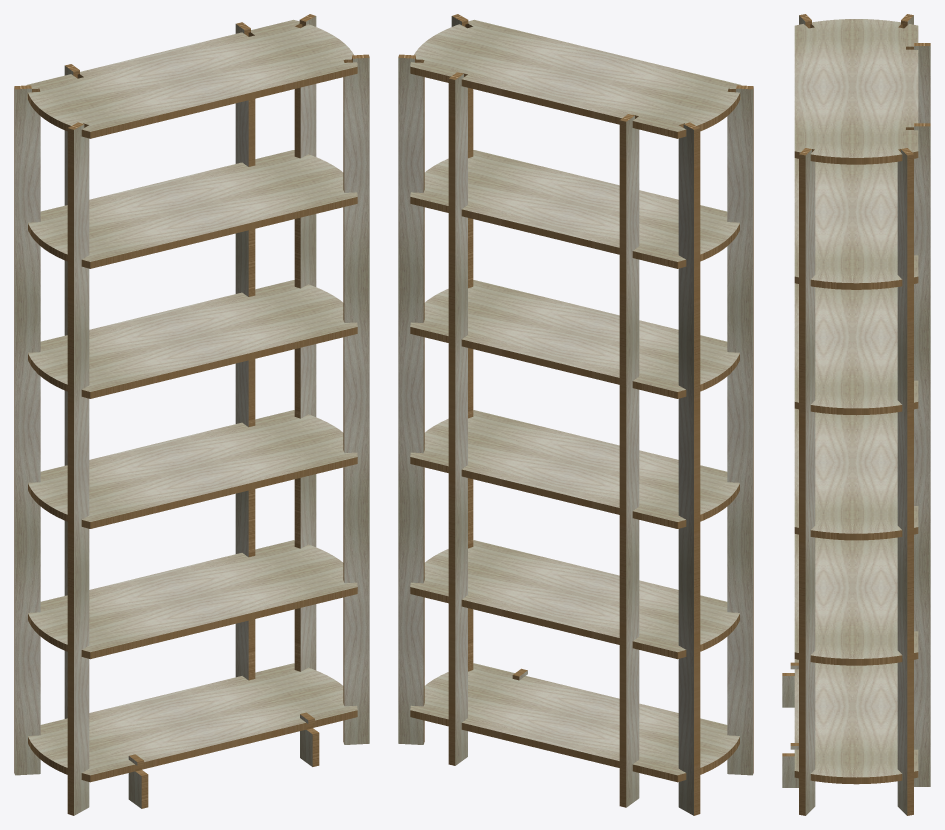
The model's file is NODO_BIBLIOTECA_KIRI_V1.glb.
3 renders of one model, left to right at view 1: azimuth 30°, elevation 25°; view 2: azimuth 150°, elevation 25°; view 3: azimuth 270°, elevation 25°, orthographic. The views are drawn at different scales.
Visible parts, largest first — view 1: Estante_6, Estante_2, Estante_5, Estante_3, Estante_4, Estante_1, Lateral_derecho_frente, Lateral_izquierdo_atras, Lateral_izquierdo_frente, Lateral_derecho_atras, Montante_trasero_2, Montante_trasero_1 (+2 smaller); view 2: Estante_6, Lateral_derecho_atras, Lateral_izquierdo_frente, Estante_2, Estante_3, Estante_5, Estante_4, Estante_1, Lateral_izquierdo_atras, Montante_trasero_1, Montante_trasero_2, Lateral_derecho_frente; view 3: Estante_6, Estante_5, Estante_2, Estante_3, Estante_4, Lateral_derecho_frente, Lateral_derecho_atras, Estante_1, Montante_trasero_2, Montante_trasero_1, Apoyo_frontal_2, Apoyo_frontal_1.
Part boxes in pixels (<box>): Estante_6: <box>26,19,357,138</box>; Estante_2: <box>28,540,357,659</box>; Estante_5: <box>28,150,357,268</box>; Estante_3: <box>28,410,357,528</box>; Estante_4: <box>28,280,357,398</box>; Estante_1: <box>28,663,357,782</box>; Lateral_derecho_frente: <box>343,54,369,744</box>; Lateral_izquierdo_atras: <box>14,85,40,775</box>; Lateral_izquierdo_frente: <box>67,122,89,815</box>; Lateral_derecho_atras: <box>294,14,316,671</box>; Montante_trasero_2: <box>235,22,255,680</box>; Montante_trasero_1: <box>64,64,79,718</box>; Estante_6: <box>410,19,741,138</box>; Lateral_derecho_atras: <box>398,54,424,744</box>; Lateral_izquierdo_frente: <box>727,85,753,775</box>; Estante_2: <box>410,540,739,659</box>; Estante_3: <box>410,410,739,528</box>; Estante_5: <box>410,150,739,268</box>; Estante_4: <box>410,280,739,398</box>; Estante_1: <box>410,663,739,782</box>; Lateral_izquierdo_atras: <box>678,122,700,815</box>; Montante_trasero_1: <box>619,114,639,807</box>; Montante_trasero_2: <box>448,72,467,765</box>; Lateral_derecho_frente: <box>451,14,473,671</box>; Estante_6: <box>794,19,918,164</box>; Estante_5: <box>794,158,918,289</box>; Estante_2: <box>794,534,918,665</box>; Estante_3: <box>794,408,918,540</box>; Estante_4: <box>794,283,918,415</box>; Lateral_derecho_frente: <box>799,148,815,815</box>; Lateral_derecho_atras: <box>897,148,913,815</box>; Estante_1: <box>794,659,918,784</box>; Montante_trasero_2: <box>914,123,930,786</box>; Montante_trasero_1: <box>914,43,930,123</box>; Apoyo_frontal_2: <box>782,743,798,787</box>; Apoyo_frontal_1: <box>782,662,798,707</box>.
Bounding box in the file's own units: 0.8138 × 1.77 × 0.36.
Materials: 2 (2 with a texture image).
